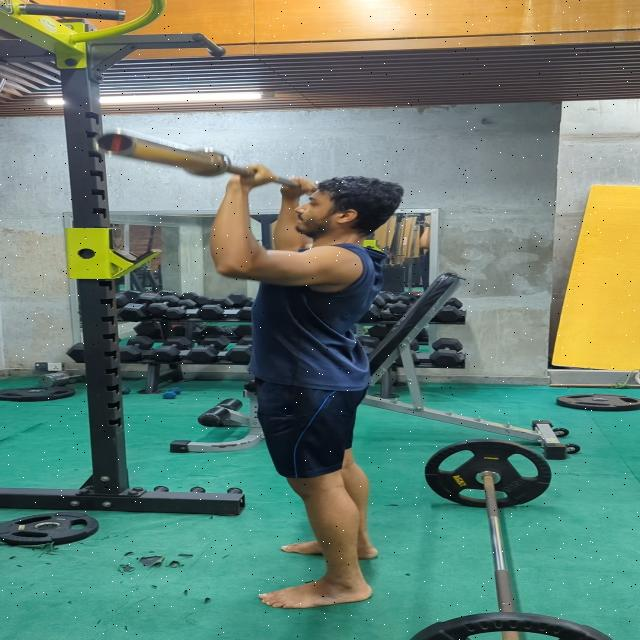Normal_OverheadPress: (180, 150, 420, 622)
